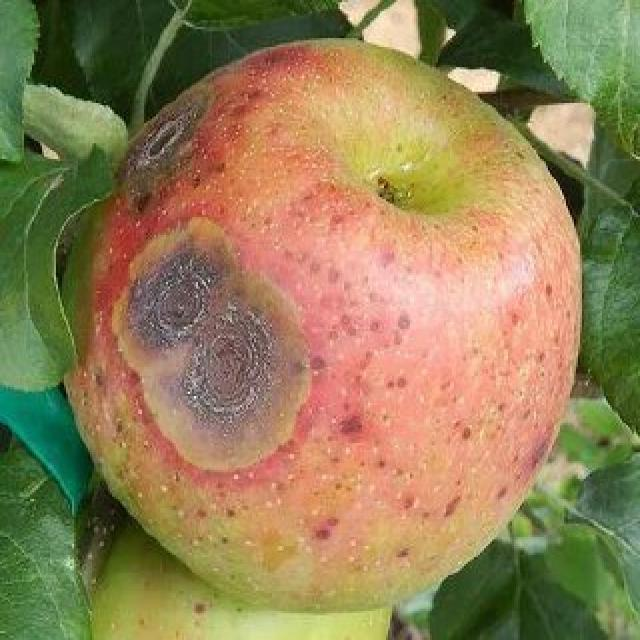Rotten: (90, 44, 577, 604)
